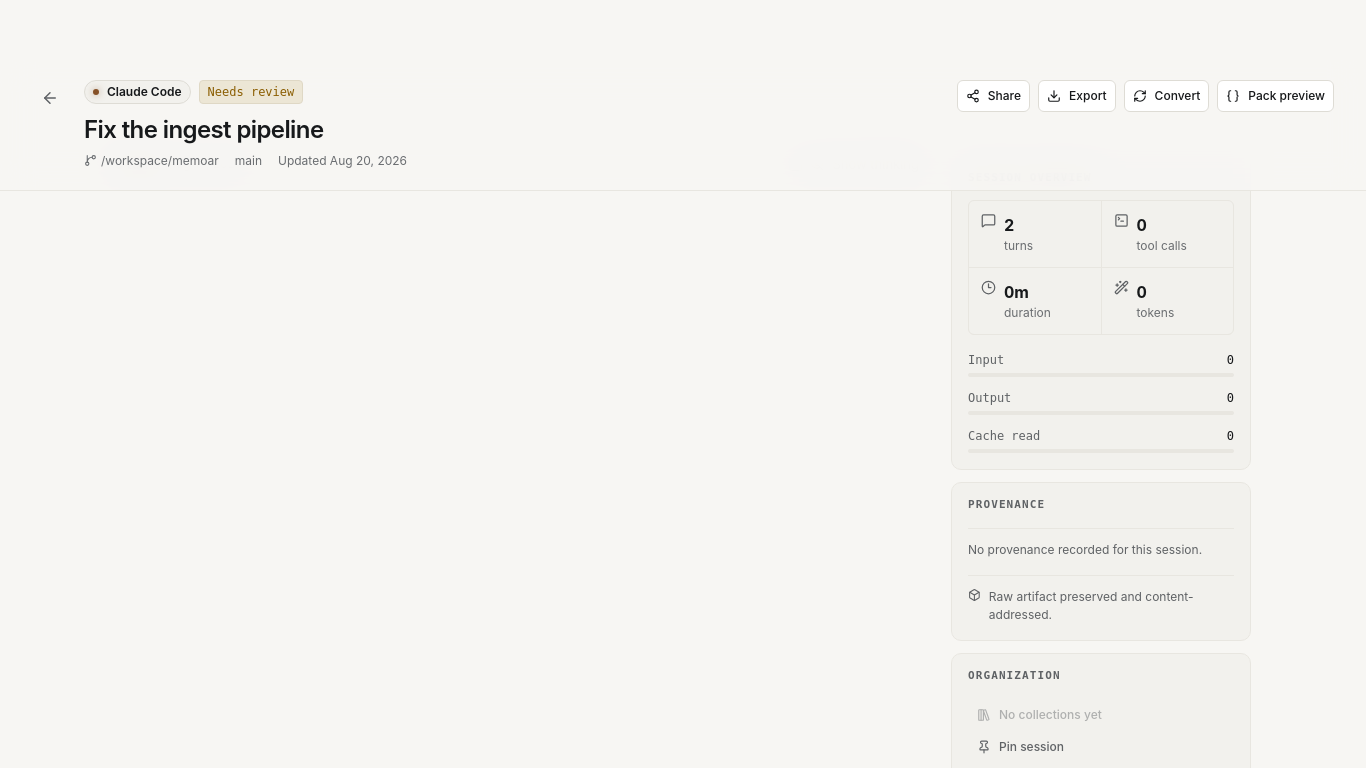
Test: redaction review before sharing › reports a failure to read the findings rather than showing none
Click the button "Share" at (993, 96), box [957,80,1030,112]
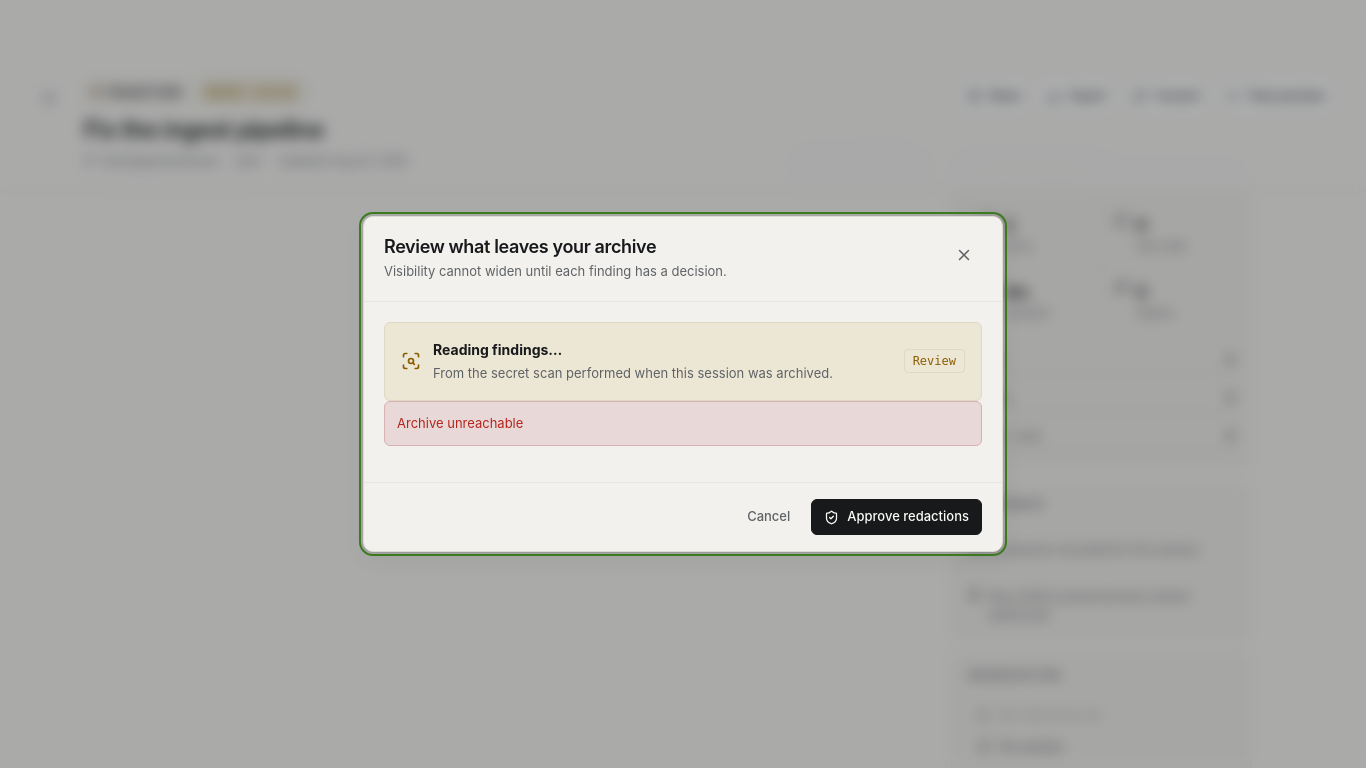
Now the message reads "Archive unreachable", box [397,415,523,431]
